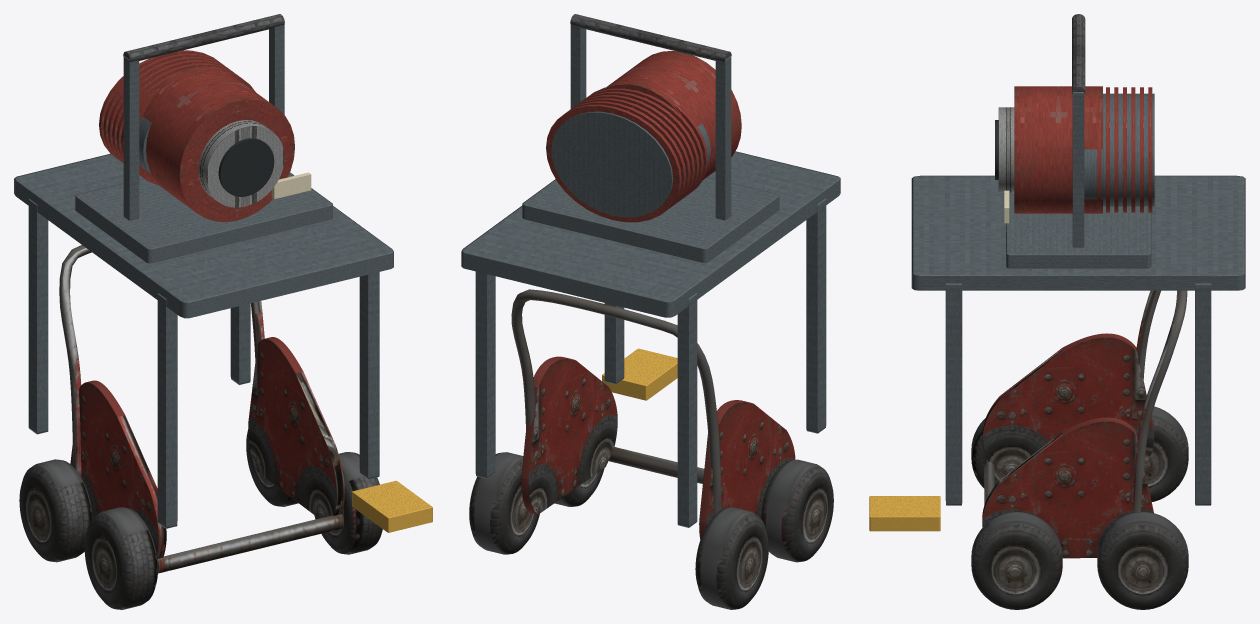
The model's file is cart-loaded.glb.
3 views of the same model, side by side, from view 1: azimuth 30°, elevation 25°; view 2: azimuth 150°, elevation 25°; view 3: azimuth 270°, elevation 25° (orthographic). The views are drawn at different scales.
Parts seen in each view (by area): view 1: load-platform, side-cheek (×2), rack-leg (×4), tire (×4), cargo-volute, cargo-skid, cargo-lifting-post (×2), cargo-cooling-fin (×5), cargo-flange, front-tie-bar, bent-push-handle, brake (+4 smaller); view 2: load-platform, side-cheek (×2), rack-leg (×4), tire (×4), cargo-skid, cargo-motor, cargo-cooling-fin (×7), cargo-volute, bent-push-handle, cargo-lifting-post (×2), hub (×3), brake (+2 smaller); view 3: side-cheek (×2), load-platform, tire (×4), cargo-volute, cargo-skid, rack-leg (×2), hub (×3), cargo-motor, bent-push-handle, brake, cargo-lifting-post, cargo-cooling-fin (×3) (+2 smaller).
Part boxes in pixels (box(x1,y1,x2,y2)): load-platform: box(14, 153, 393, 318); side-cheek (×2): box(70, 337, 344, 558); rack-leg (×4): box(28, 198, 379, 528); tire (×4): box(19, 429, 382, 609); cargo-volute: box(143, 66, 294, 222); cargo-skid: box(75, 172, 332, 263); cargo-lifting-post (×2): box(123, 25, 284, 220); cargo-cooling-fin (×5): box(99, 50, 233, 162); cargo-flange: box(198, 120, 284, 207); front-tie-bar: box(157, 514, 343, 573); bent-push-handle: box(59, 245, 264, 477); brake: box(352, 480, 432, 532); load-platform: box(461, 151, 840, 317); side-cheek (×2): box(521, 356, 795, 539); rack-leg (×4): box(475, 198, 826, 527); tire (×4): box(469, 452, 833, 609); cargo-skid: box(522, 177, 779, 262); cargo-motor: box(551, 111, 710, 217); cargo-cooling-fin (×7): box(546, 87, 708, 222); cargo-volute: box(603, 51, 741, 179); bent-push-handle: box(511, 289, 721, 515); cargo-lifting-post (×2): box(570, 25, 731, 220); hub (×3): box(510, 485, 827, 589); brake: box(602, 348, 677, 400); side-cheek (×2): box(982, 333, 1154, 558); load-platform: box(911, 175, 1245, 290); tire (×4): box(971, 406, 1188, 609); cargo-volute: box(1014, 86, 1102, 213); cargo-skid: box(1006, 192, 1151, 268); rack-leg (×2): box(945, 283, 1211, 505); hub (×3): box(992, 441, 1168, 593); cargo-motor: box(1084, 93, 1154, 206); bent-push-handle: box(1132, 290, 1187, 512); brake: box(869, 496, 940, 531); cargo-lifting-post: box(1072, 92, 1084, 247); cargo-cooling-fin (×3): box(1114, 87, 1152, 212).
Size of the model in its own units: 0.7874 by 1.49 by 1.01.
10 materials, 10 textured.
